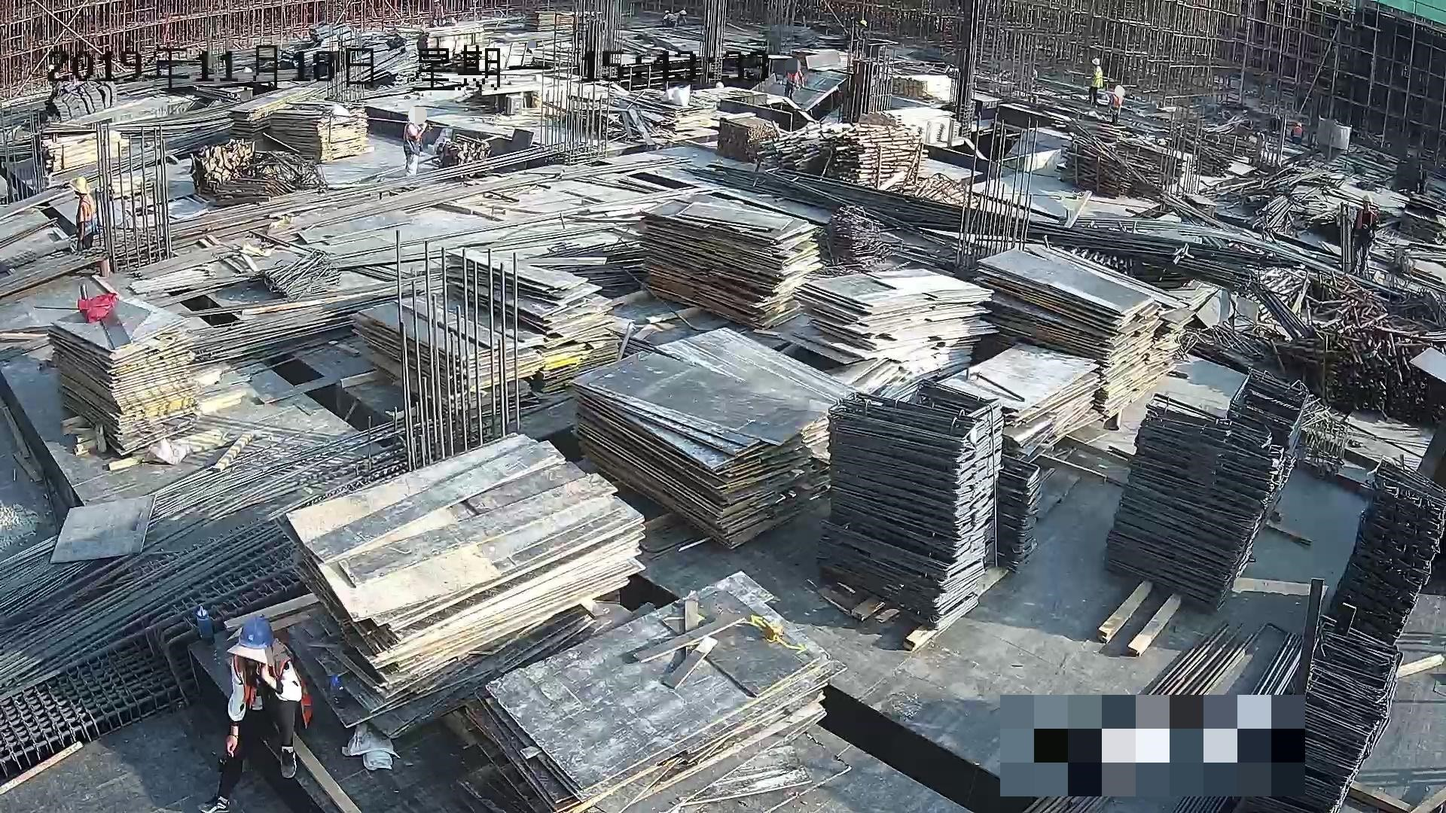hat: (239, 615, 274, 649), (407, 107, 423, 123)
head: (67, 175, 91, 198)
person: (200, 605, 315, 813), (66, 171, 102, 251), (401, 101, 435, 182)
